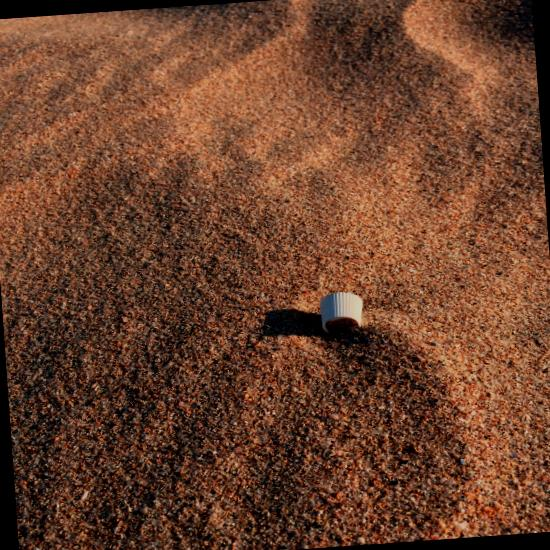Plastic bottle cap: (319, 292, 362, 333)
